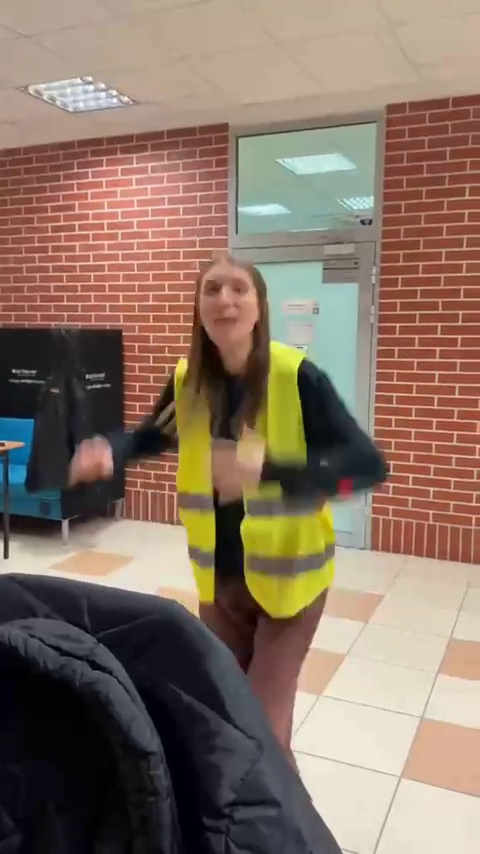vest: (127, 250, 396, 740)
